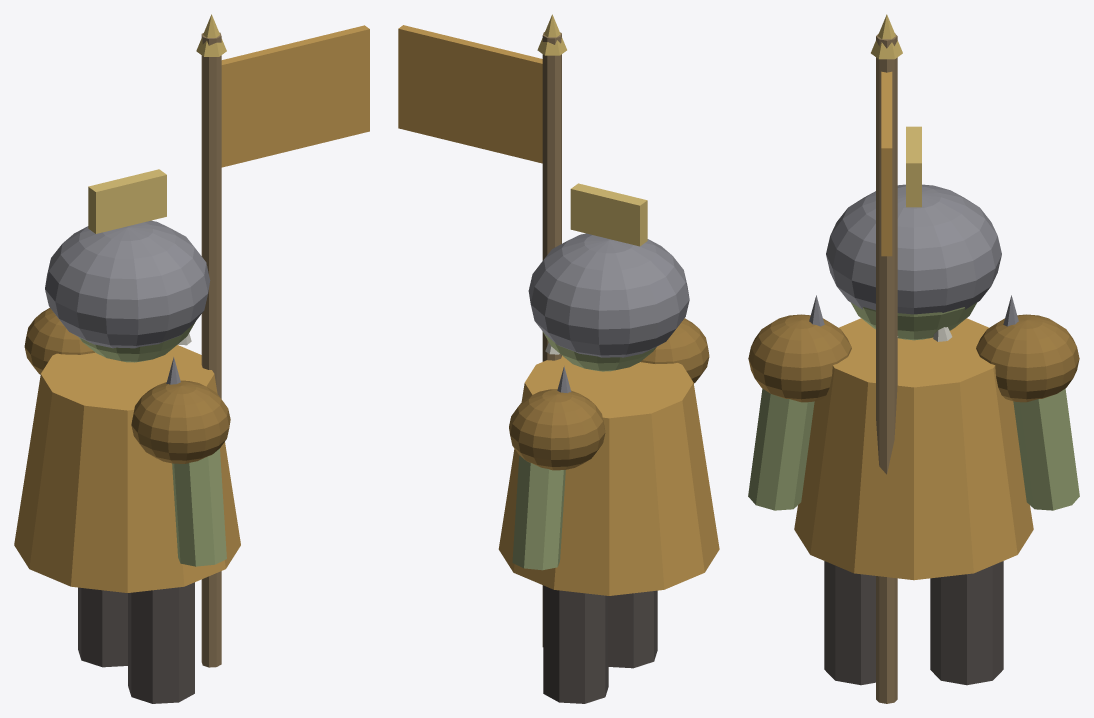
Rendered from hero_durgar_4.glb.
3 views of the same model, side by side, from view 1: azimuth 30°, elevation 25°; view 2: azimuth 150°, elevation 25°; view 3: azimuth 270°, elevation 25° (orthographic). The views are drawn at different scales.
Parts seen in each view (by area): view 1: figurka; view 2: figurka; view 3: figurka.
Boxes of the visible parts, left/top/right/bottom form: figurka: left=14, top=14, right=369, bottom=703; figurka: left=398, top=14, right=719, bottom=703; figurka: left=748, top=14, right=1079, bottom=703.
Size of the model in its own units: 0.731 by 1.4 by 0.6121.
